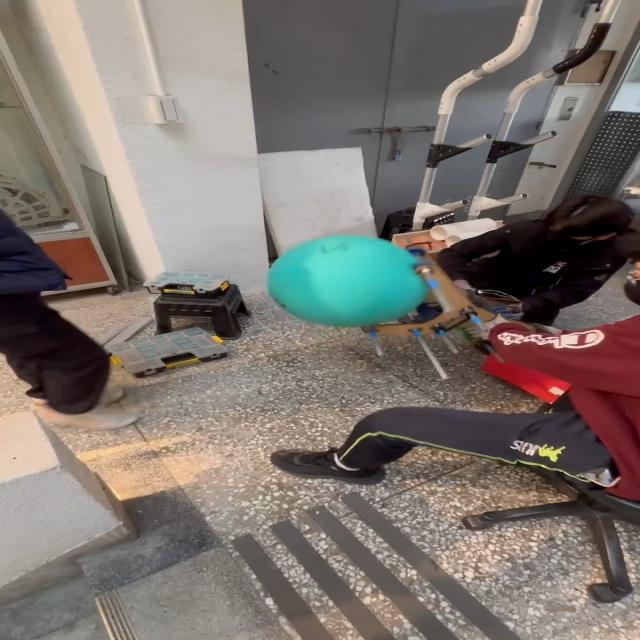ALGAE: (264, 234, 429, 328)
